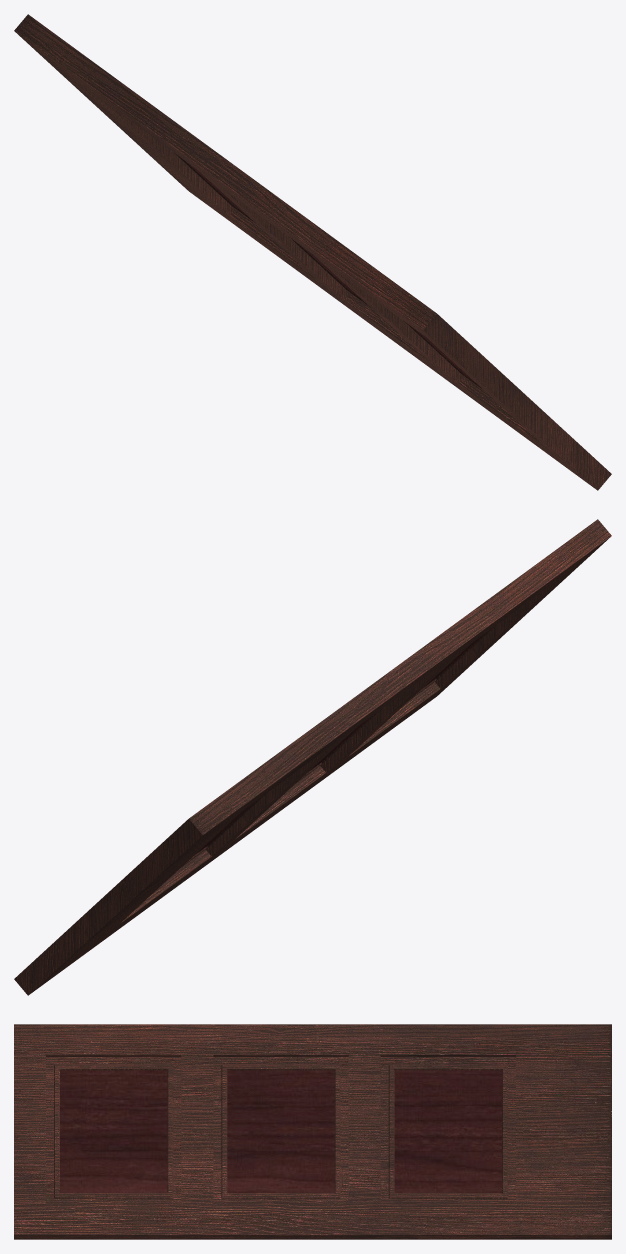
File: door.obj
The picture shows the model from 3 angles, top to bottom: view 1: azimuth 30°, elevation 25°; view 2: azimuth 150°, elevation 25°; view 3: azimuth 270°, elevation 25°; orthographic projection. The views are drawn at different scales.
Size of the model in its own units: 19.93 by 21.82 by 74.8.
